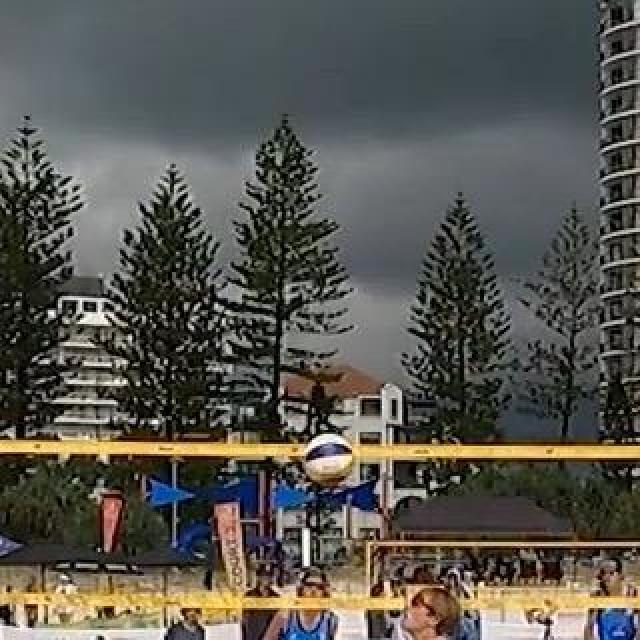volleyball: (305, 433, 355, 483)
